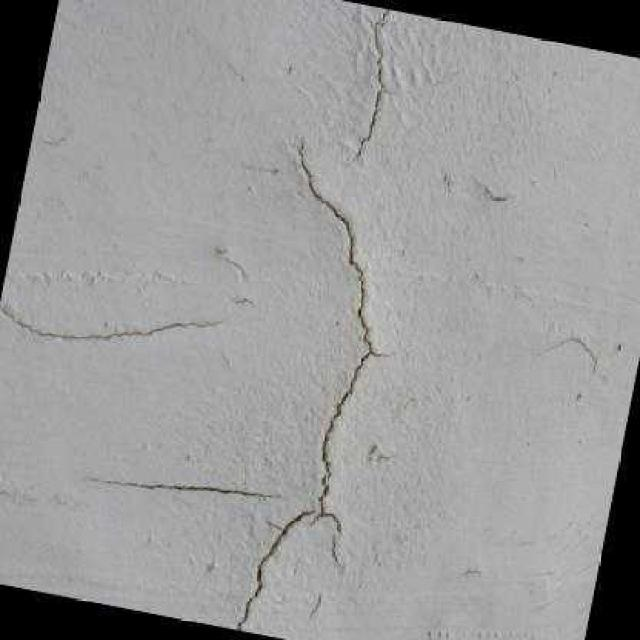D00: (231, 148, 375, 631), (0, 292, 211, 346), (354, 5, 392, 146), (97, 474, 265, 501)
